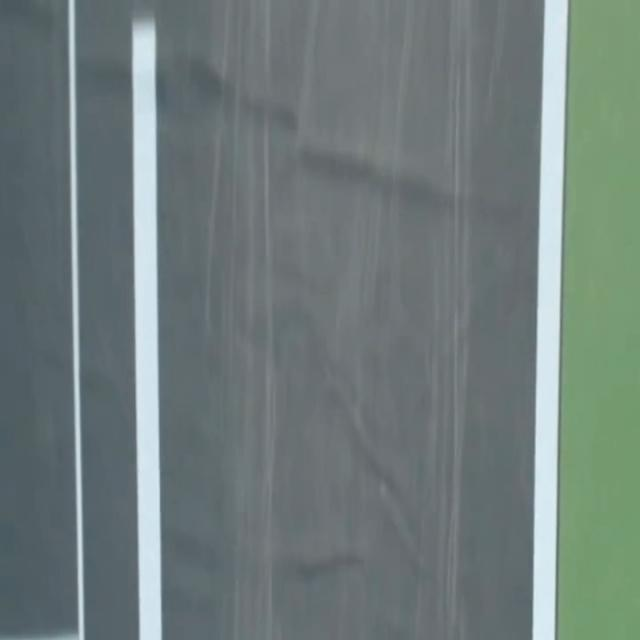center: (132, 20, 161, 639)
right: (532, 0, 567, 639)
